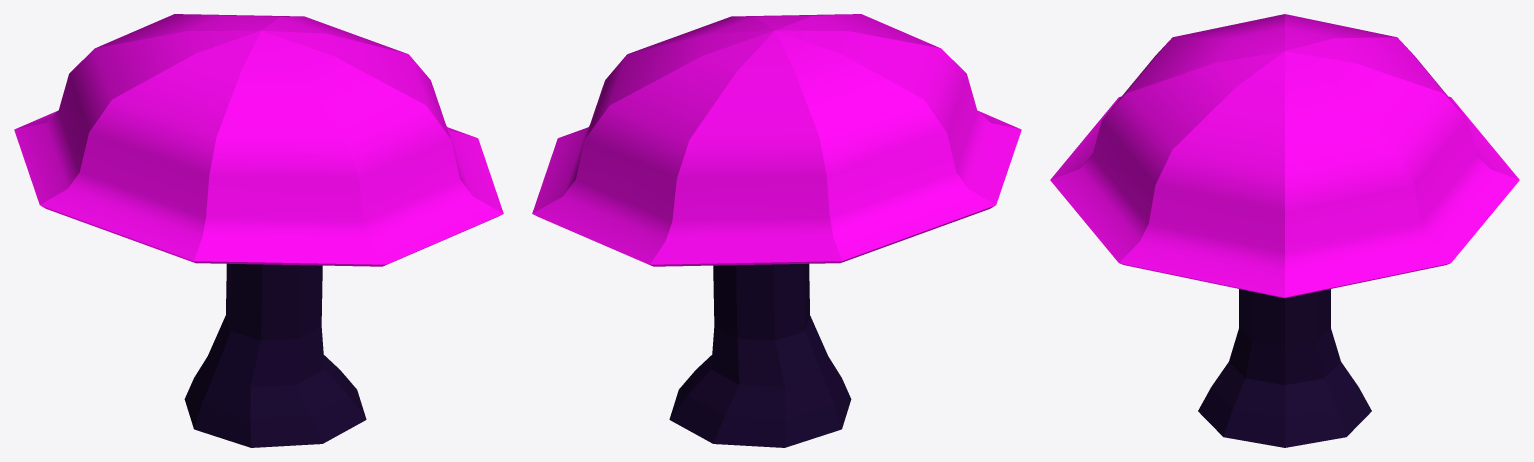
The model's file is Mushroom_2.fbx.
3 views of the same model, side by side, from view 1: azimuth 30°, elevation 25°; view 2: azimuth 150°, elevation 25°; view 3: azimuth 270°, elevation 25° (orthographic). The views are drawn at different scales.
Visible parts, largest first — view 1: Mushroom_2; view 2: Mushroom_2; view 3: Mushroom_2.
Boxes of the visible parts, x1,y1,x2,y2 form: Mushroom_2: (14,14,503,447); Mushroom_2: (532,14,1021,447); Mushroom_2: (1050,14,1519,447).
Bounding box in the file's own units: 32.85 × 27.37 × 32.98.
